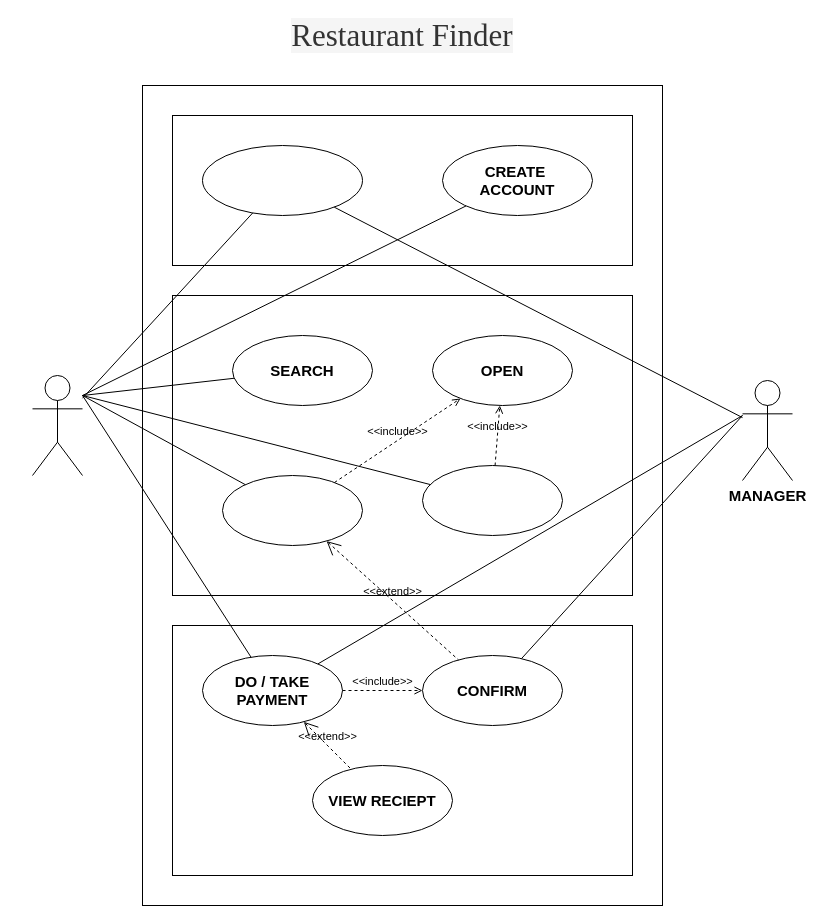
The diagram is 824 pixels wide and 923 high, and some of its shapes have lost their labels. Each missing label, with the centre of its shape:
CUSTOMER: [57,425]
LOGIN / LOGOUT: [282,180]
PLACE ORDER: [292,510]
VIEW MENU: [492,500]
